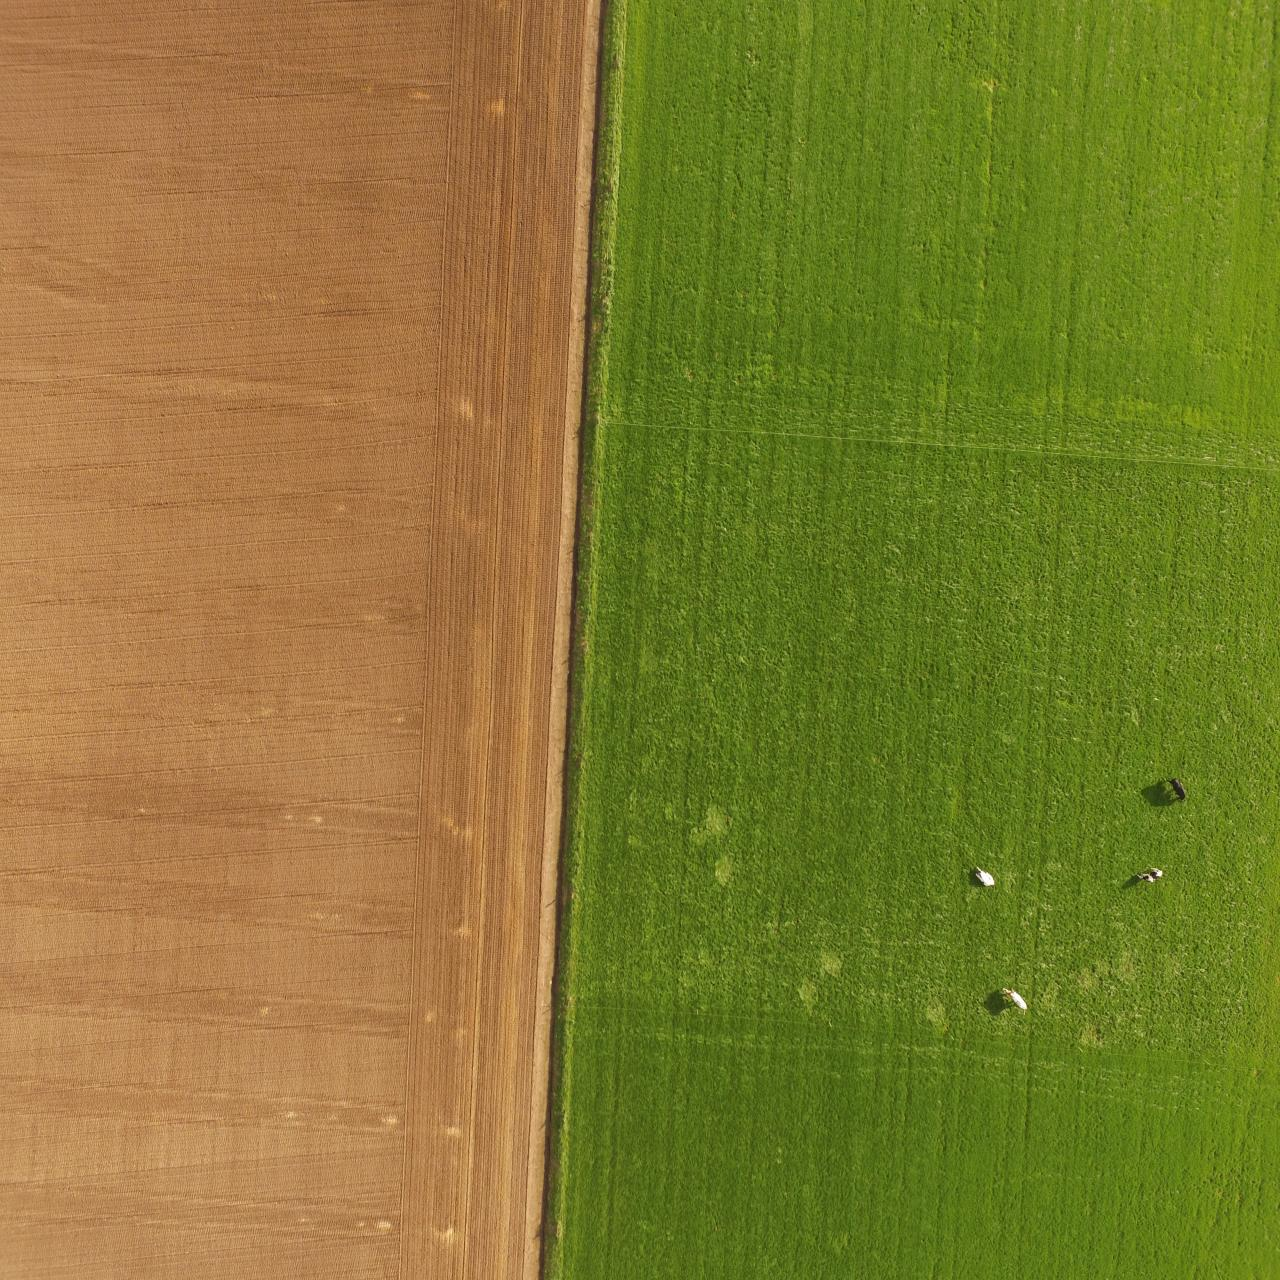cow: (998, 981, 1030, 1017), (1131, 862, 1165, 888), (1162, 772, 1189, 806), (969, 860, 998, 892)
